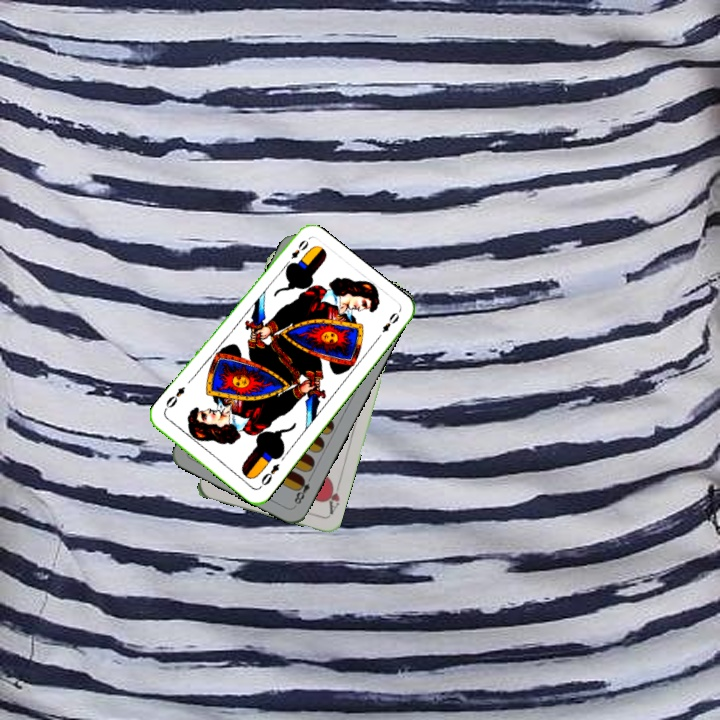E8: (290, 471, 315, 509)
EO: (255, 459, 282, 491), (287, 236, 311, 261)
HA: (322, 477, 343, 517)
